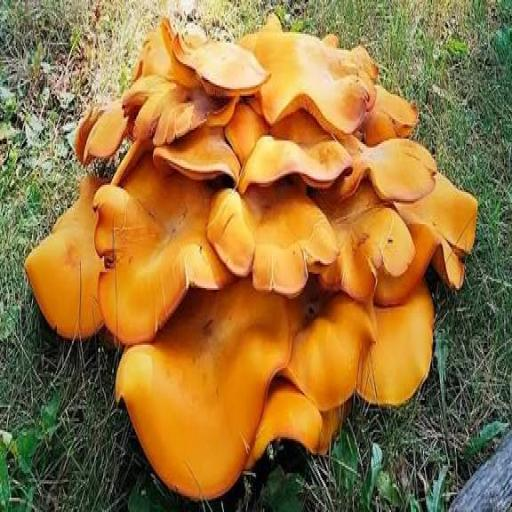Jack O Lantern Mushroom: (116, 289, 292, 492), (88, 166, 236, 350), (22, 166, 134, 362), (364, 168, 480, 311), (204, 185, 337, 294), (268, 281, 375, 413), (347, 282, 447, 414), (253, 37, 374, 138), (323, 183, 421, 302), (256, 376, 345, 471), (235, 130, 344, 202), (176, 30, 267, 111), (129, 73, 211, 146), (357, 132, 440, 203), (74, 96, 137, 161)
